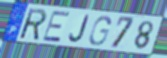7: (110, 16, 137, 51)
8: (133, 20, 156, 51)
E: (41, 11, 71, 44)
G: (88, 15, 112, 47)
J: (68, 14, 91, 45)
R: (19, 8, 48, 42)
